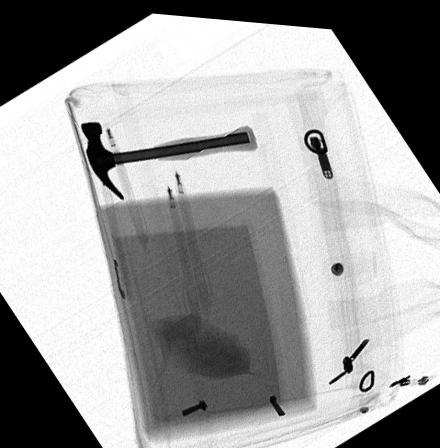Hammer: (78, 118, 258, 197)
